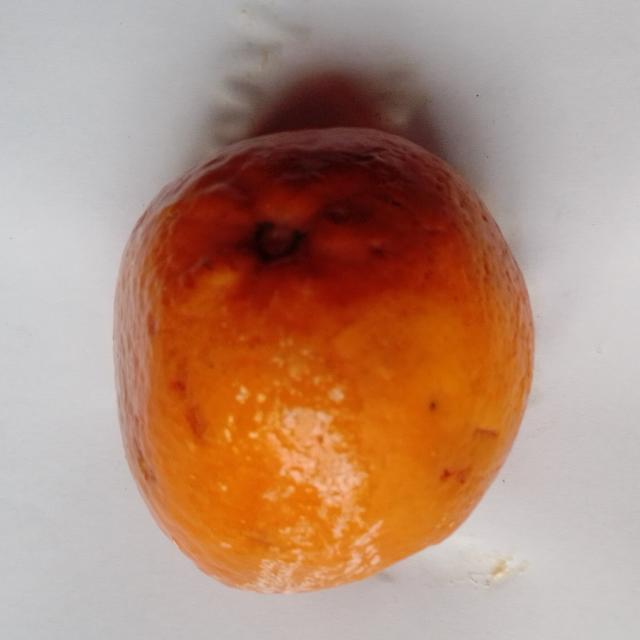orange: (115, 128, 533, 592)
